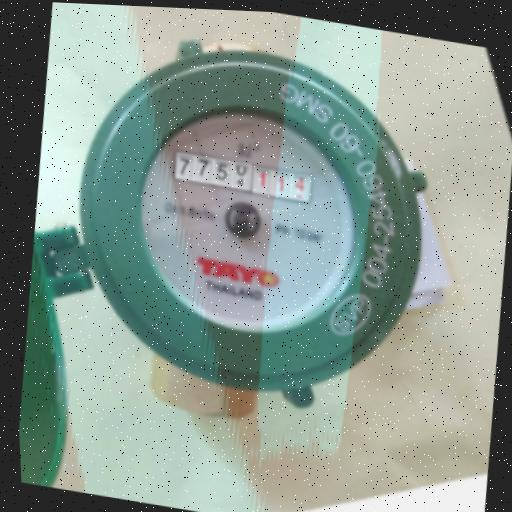0: (233, 164, 250, 188)
1: (254, 169, 271, 192), (273, 172, 290, 195)
4: (290, 176, 307, 199)
5: (213, 161, 230, 184)
7: (176, 155, 193, 178), (195, 158, 212, 181)
border_water_meter_number: (170, 149, 314, 205)
